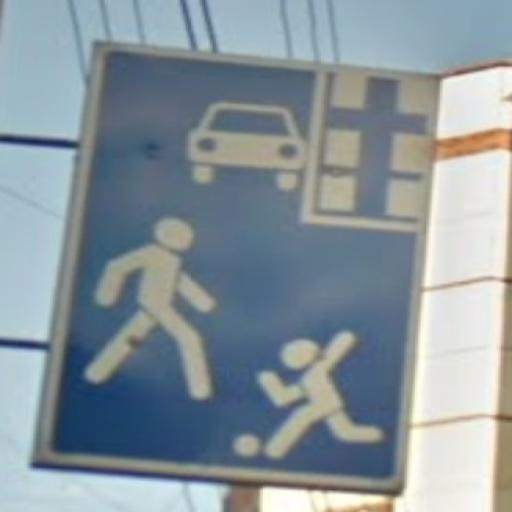traffic_sign: (33, 40, 451, 497)
